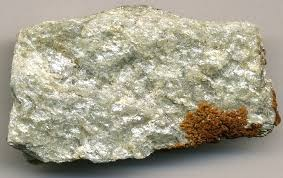obstacle: (7, 6, 279, 162)
